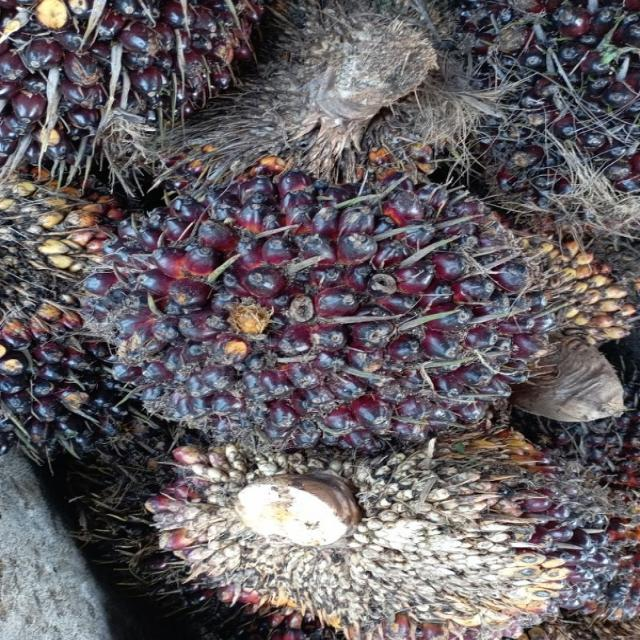fraksi 1: (87, 168, 573, 456)
